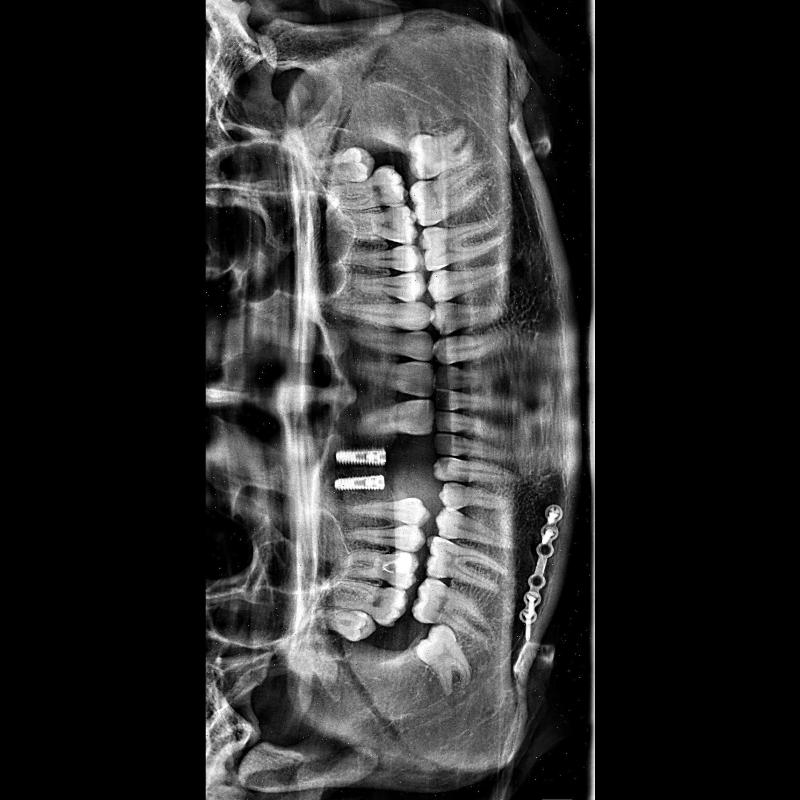osstem: (328, 436, 390, 470), (326, 470, 388, 500)
